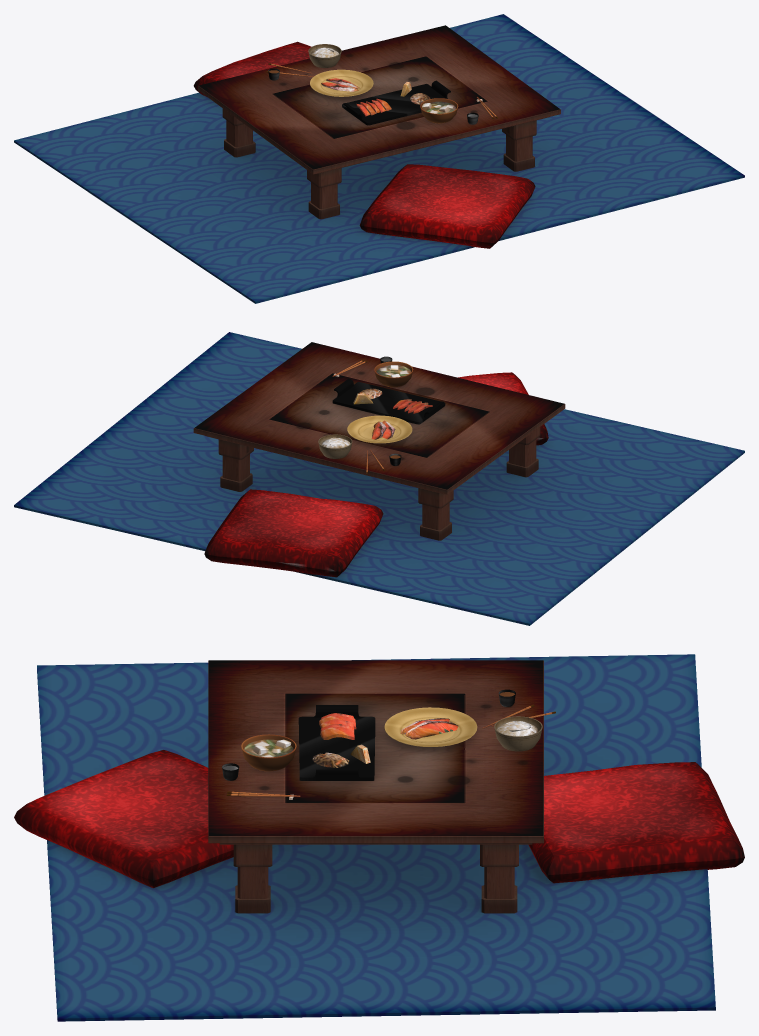
The model's file is NNJ0810001.fbx.
3 renders of one model, top to bottom at view 1: azimuth 30°, elevation 25°; view 2: azimuth 150°, elevation 25°; view 3: azimuth 270°, elevation 25°, orthographic. The views are drawn at different scales.
Parts seen in each view (by area): view 1: smNNJ0810001; view 2: smNNJ0810001; view 3: smNNJ0810001.
Part boxes in pixels (x1,y1,x2,y2): smNNJ0810001: [14, 14, 744, 303]; smNNJ0810001: [14, 332, 744, 625]; smNNJ0810001: [14, 654, 744, 1021].
Bounding box in the file's own units: 429 × 60.82 × 364.
Materials: 1 (1 with a texture image).
